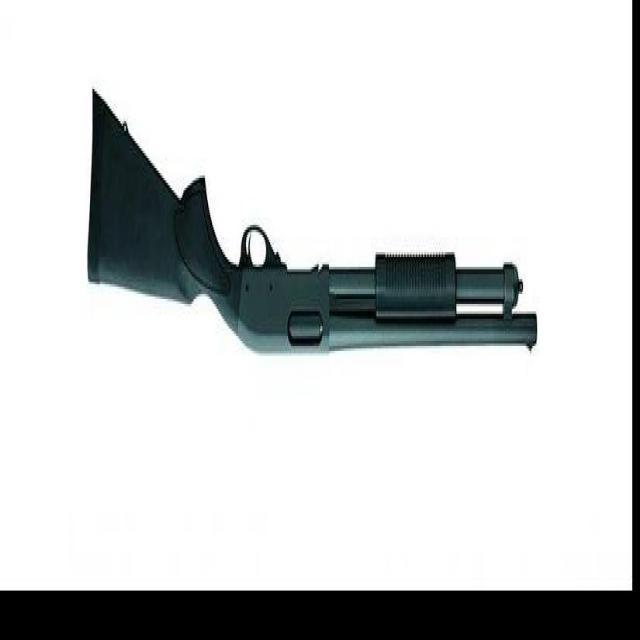weapon: (87, 81, 538, 356)
